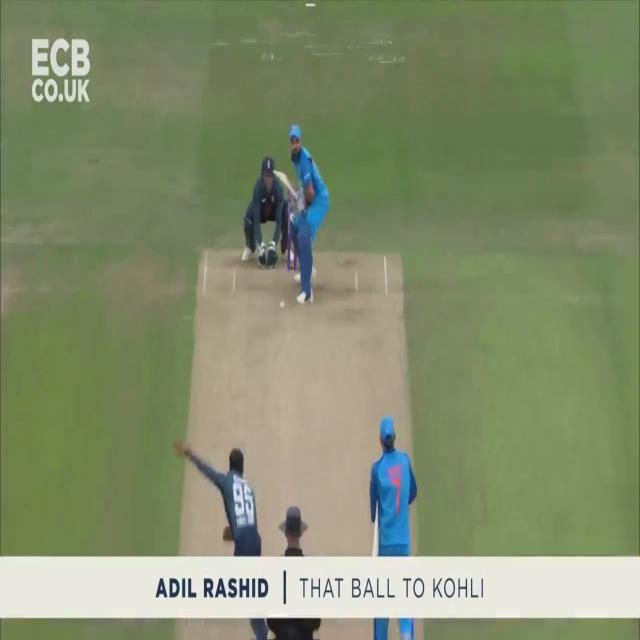ball: (280, 300, 285, 309)
